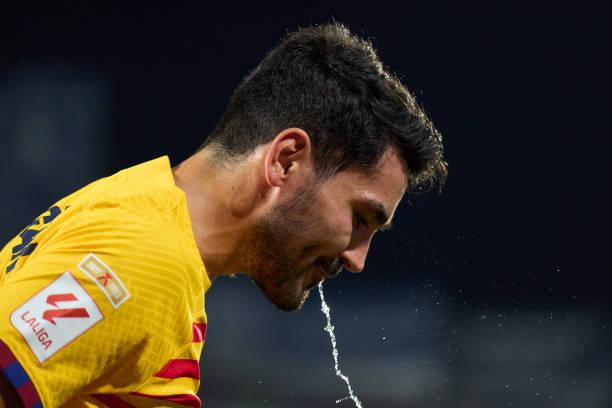Spitting: (186, 2, 461, 388)
